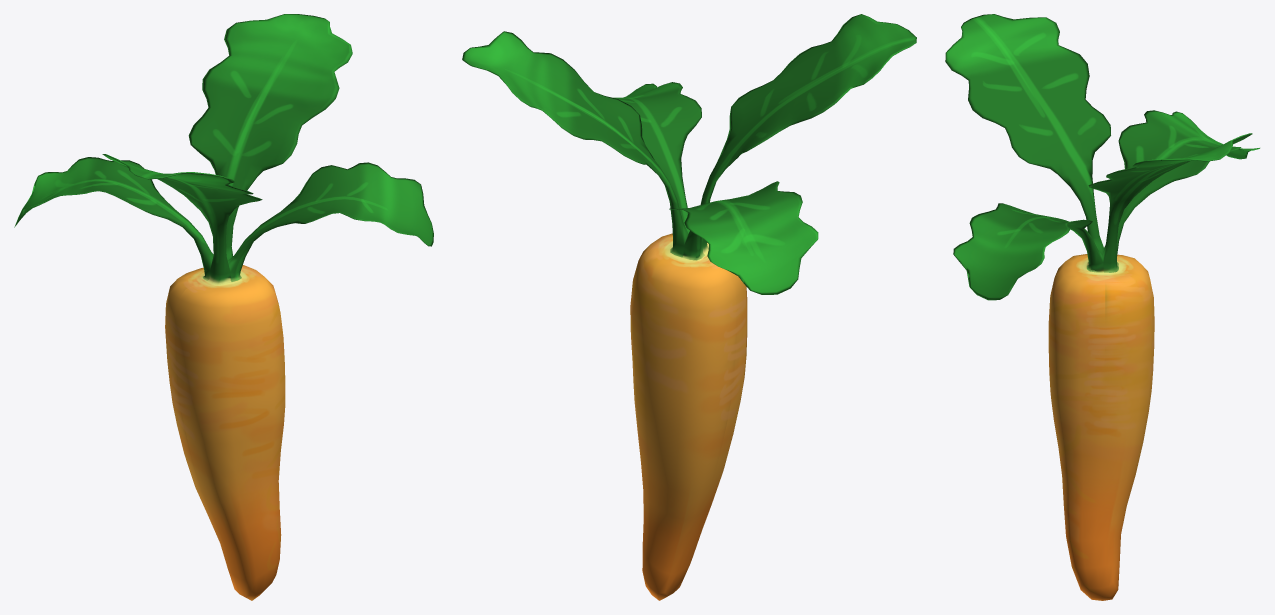
The model's file is PlantCarrot.fbx.
3 views of the same model, side by side, from view 1: azimuth 30°, elevation 25°; view 2: azimuth 150°, elevation 25°; view 3: azimuth 270°, elevation 25° (orthographic). The views are drawn at different scales.
Visible parts, largest first — view 1: Cube; view 2: Cube; view 3: Cube.
Boxes of the visible parts, x1,y1,x2,y2 form: Cube: [14, 14, 433, 600]; Cube: [462, 14, 916, 600]; Cube: [945, 14, 1259, 600].
Bounding box in the file's own units: 30.02 × 45.42 × 25.68.
1 material, 1 textured.
